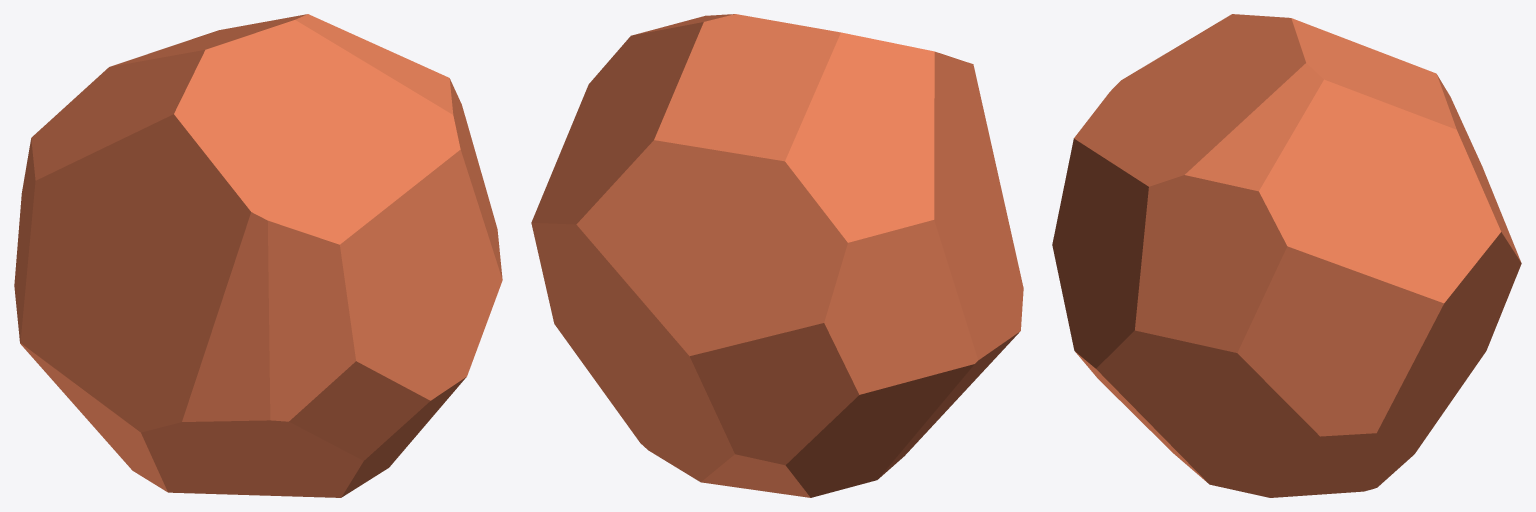
Rendered from Rock_V04.fbx.
The picture shows the model from 3 angles, left to right: view 1: azimuth 30°, elevation 25°; view 2: azimuth 150°, elevation 25°; view 3: azimuth 270°, elevation 25°; orthographic projection. The views are drawn at different scales.
Visible parts, largest first — view 1: Rock_04; view 2: Rock_04; view 3: Rock_04.
Boxes of the visible parts, x1=… form: Rock_04: x1=14, y1=14, x2=502, y2=497; Rock_04: x1=531, y1=14, x2=1023, y2=497; Rock_04: x1=1052, y1=14, x2=1521, y2=497.
Bounding box in the file's own units: 79.47 × 75.31 × 79.78.
